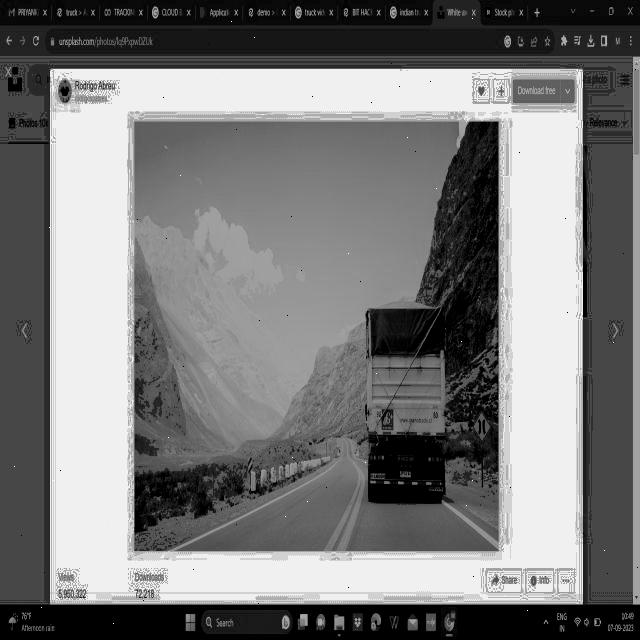HCV: (354, 273, 476, 537)
